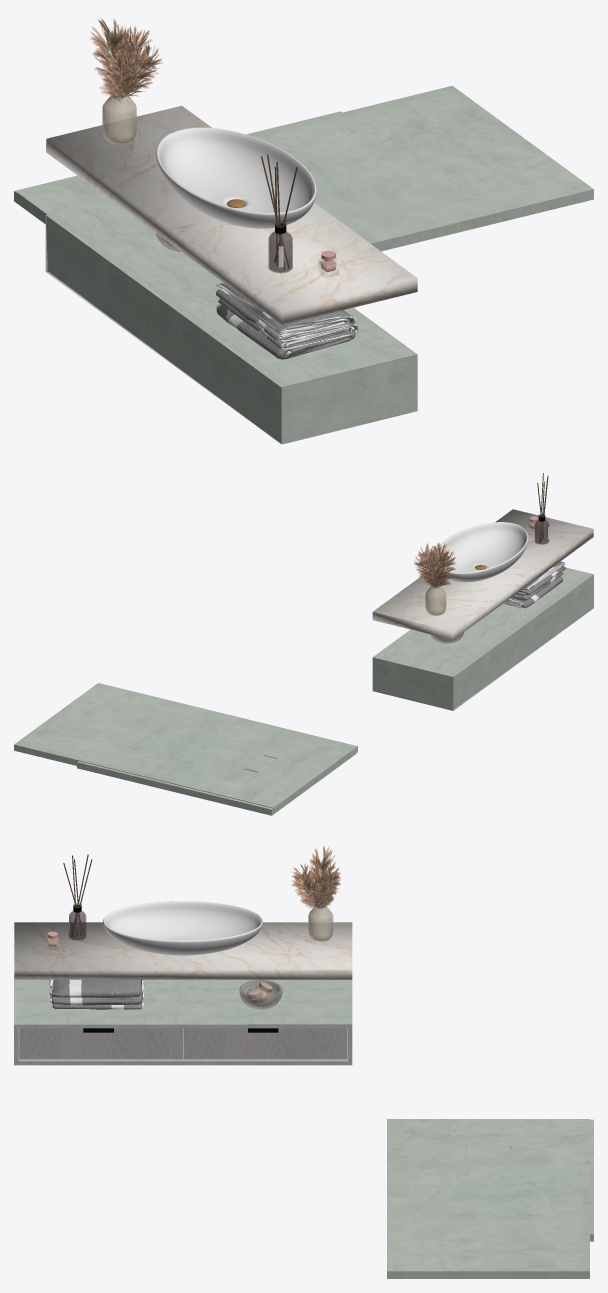
File: RECEVEURS_compressed.glb
3 renders of one model, top to bottom at view 1: azimuth 30°, elevation 25°; view 2: azimuth 150°, elevation 25°; view 3: azimuth 270°, elevation 25°, orthographic. The views are drawn at different scales.
Parts seen in each view (by area): view 1: Cube.003, Cube.006, Natura 1400x900.001, Natura 1600x900, Sink, Towel.001, Aroma, pampas twigs.006, Decoration vases with pampas.001, pampas twigs.005, pampas twigs.001, pampas twigs.003; view 2: Cube.003, Natura 1600x900, Natura 1400x900.001, Cube.006, Sink, Natura 1200x900, Towel.001, Natura 1000x900, Aroma, pampas twigs.006, Decoration vases with pampas.001; view 3: Natura 1600x900, Cube.003, Cube.006, Natura 1400x900.001, Sink, Cube.004, Cube.001, Towel.001, Aroma, pot, Decoration vases with pampas.001, pampas twigs.001 (+1 smaller).
Boxes of the visible parts, x1,y1,x2,y2 form: Cube.003: [45, 199, 417, 444]; Cube.006: [46, 105, 417, 324]; Natura 1400x900.001: [18, 98, 540, 251]; Natura 1600x900: [16, 85, 593, 249]; Sink: [156, 127, 316, 228]; Towel.001: [216, 283, 358, 359]; Aroma: [261, 154, 297, 273]; pampas twigs.006: [90, 18, 139, 134]; Decoration vases with pampas.001: [102, 94, 136, 144]; pampas twigs.005: [101, 49, 137, 104]; pampas twigs.001: [116, 43, 161, 98]; pampas twigs.003: [115, 26, 151, 93]; Cube.003: [372, 567, 593, 710]; Natura 1600x900: [14, 683, 357, 813]; Natura 1400x900.001: [45, 690, 356, 807]; Cube.006: [372, 509, 593, 639]; Sink: [434, 522, 528, 582]; Natura 1200x900: [77, 754, 355, 815]; Towel.001: [503, 561, 566, 608]; Natura 1000x900: [108, 770, 270, 814]; Aroma: [534, 473, 549, 544]; pampas twigs.006: [427, 542, 450, 586]; Decoration vases with pampas.001: [425, 585, 446, 615]; Natura 1600x900: [387, 1119, 589, 1278]; Cube.003: [14, 977, 352, 1065]; Cube.006: [14, 922, 352, 979]; Natura 1400x900.001: [387, 1130, 589, 1252]; Sink: [103, 901, 262, 955]; Cube.004: [183, 1028, 347, 1059]; Cube.001: [19, 1028, 182, 1059]; Towel.001: [49, 979, 144, 1009]; Aroma: [63, 854, 92, 940]; pot: [239, 979, 282, 1008]; Decoration vases with pampas.001: [308, 906, 333, 941]; pampas twigs.001: [292, 872, 324, 908].
Bounding box in the file's own units: 2.1 × 1.21 × 2.57.
Materials: 20 (7 with a texture image).
